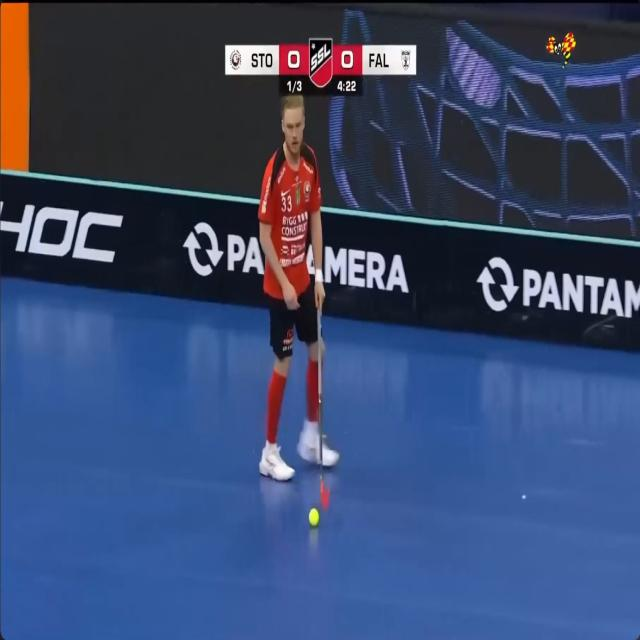Balls: (309, 507, 319, 526)
player: (259, 95, 339, 480)
stick: (317, 306, 328, 509)
